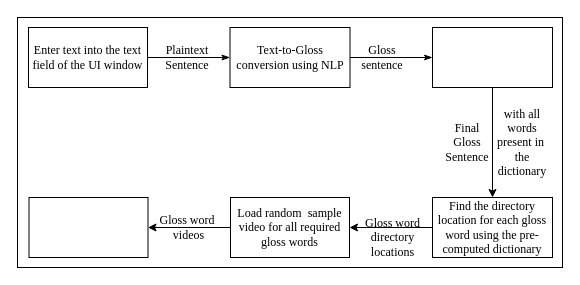
Image size: 580x285. Some labels were removed from this diagram. Here are the shapes that lost their labels. From the top down, the box of each, then its label:
(432, 26, 552, 88): Find synonyms for words not present in the dictionary using word embeddings
(28, 196, 148, 258): Display the resulting merged video representing the input text in ISL
